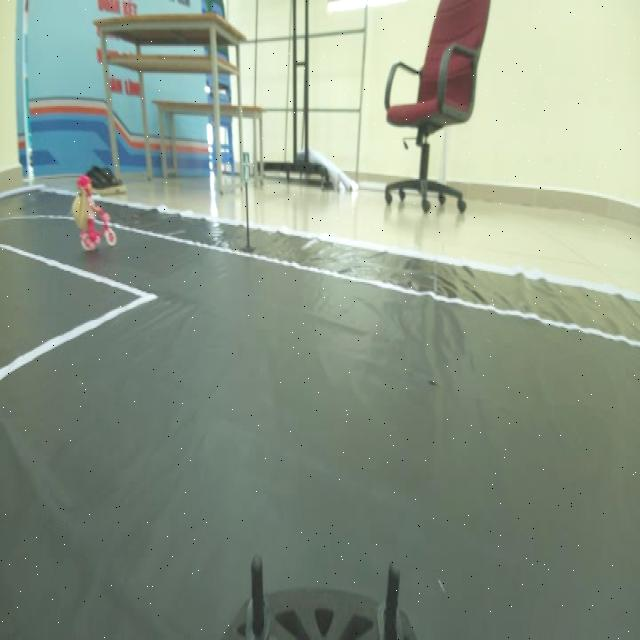pedestrian: (68, 171, 124, 255)
